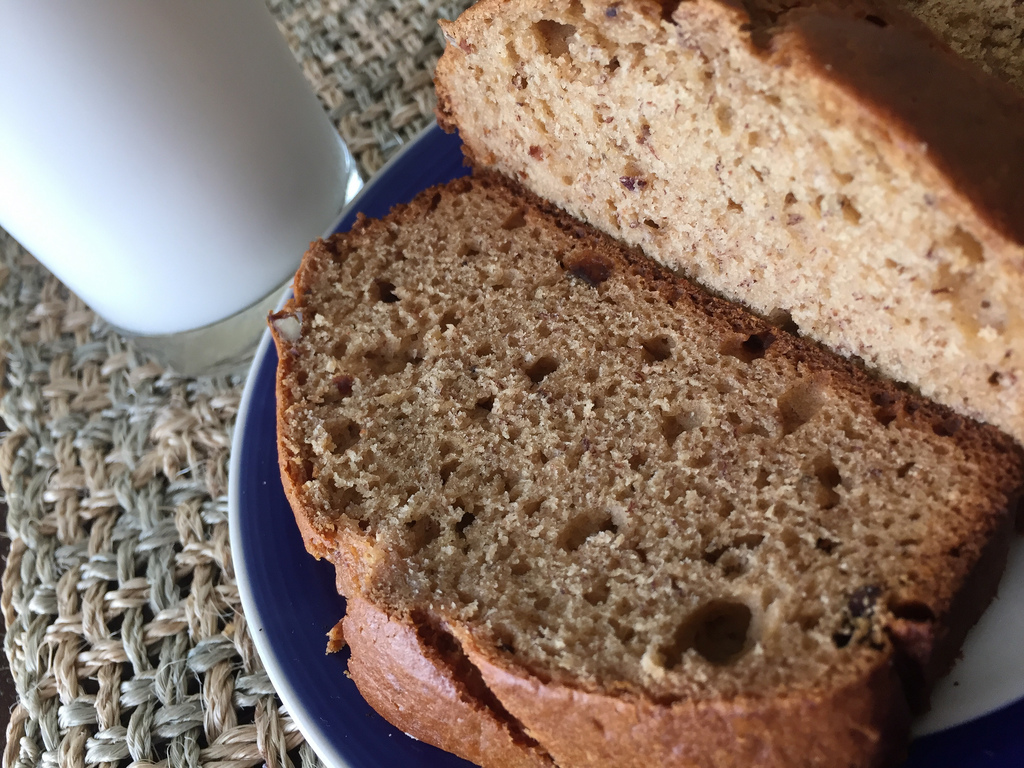slice of bread: (268, 207, 963, 761)
